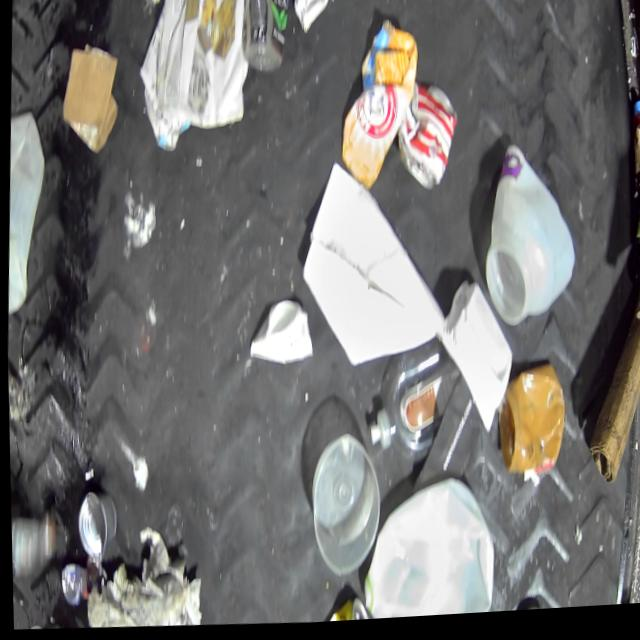can: (392, 83, 458, 198), (71, 488, 115, 563), (295, 594, 370, 627)
milk_jug: (357, 472, 496, 624), (2, 106, 49, 320)
